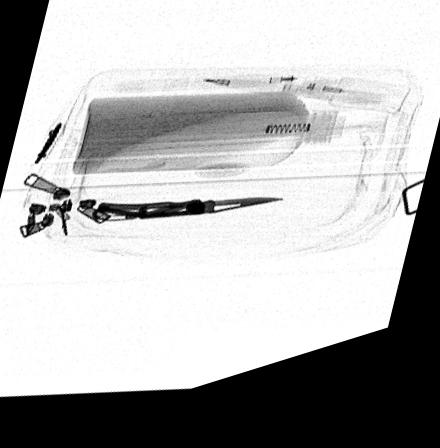Knife: (89, 207, 284, 228)
